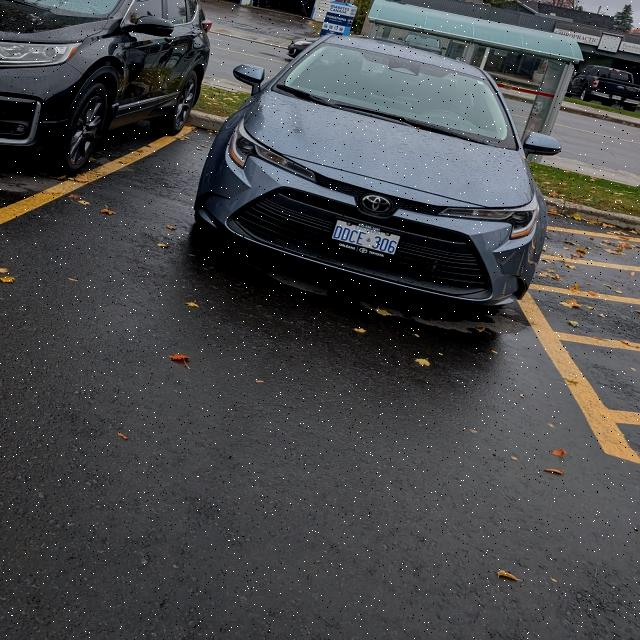plaque: (329, 220, 400, 261), (612, 96, 621, 101)
